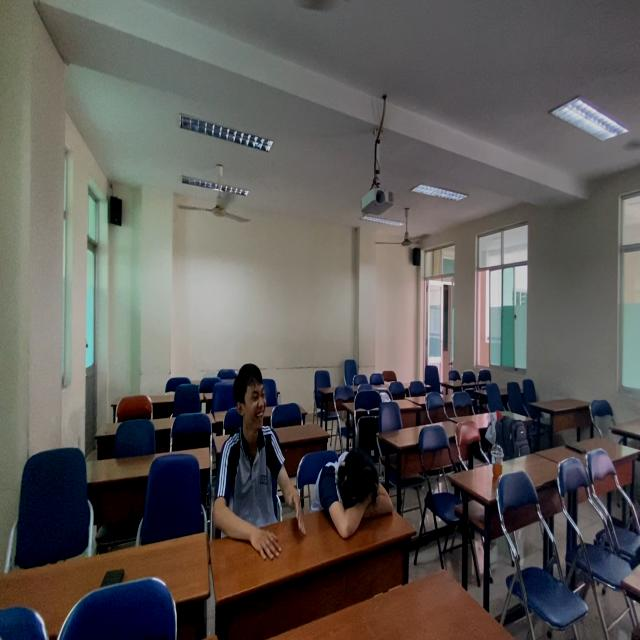sleep: (304, 448, 402, 542)
